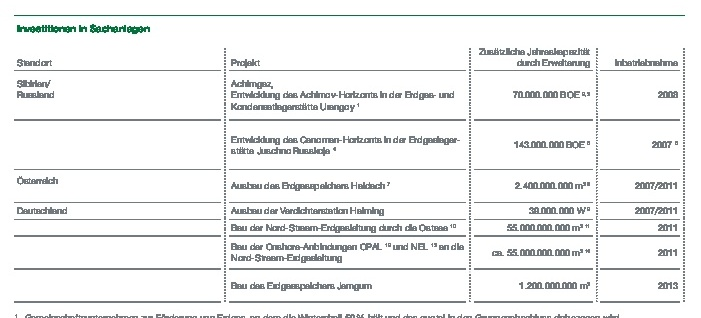table: (0, 0, 701, 318)
